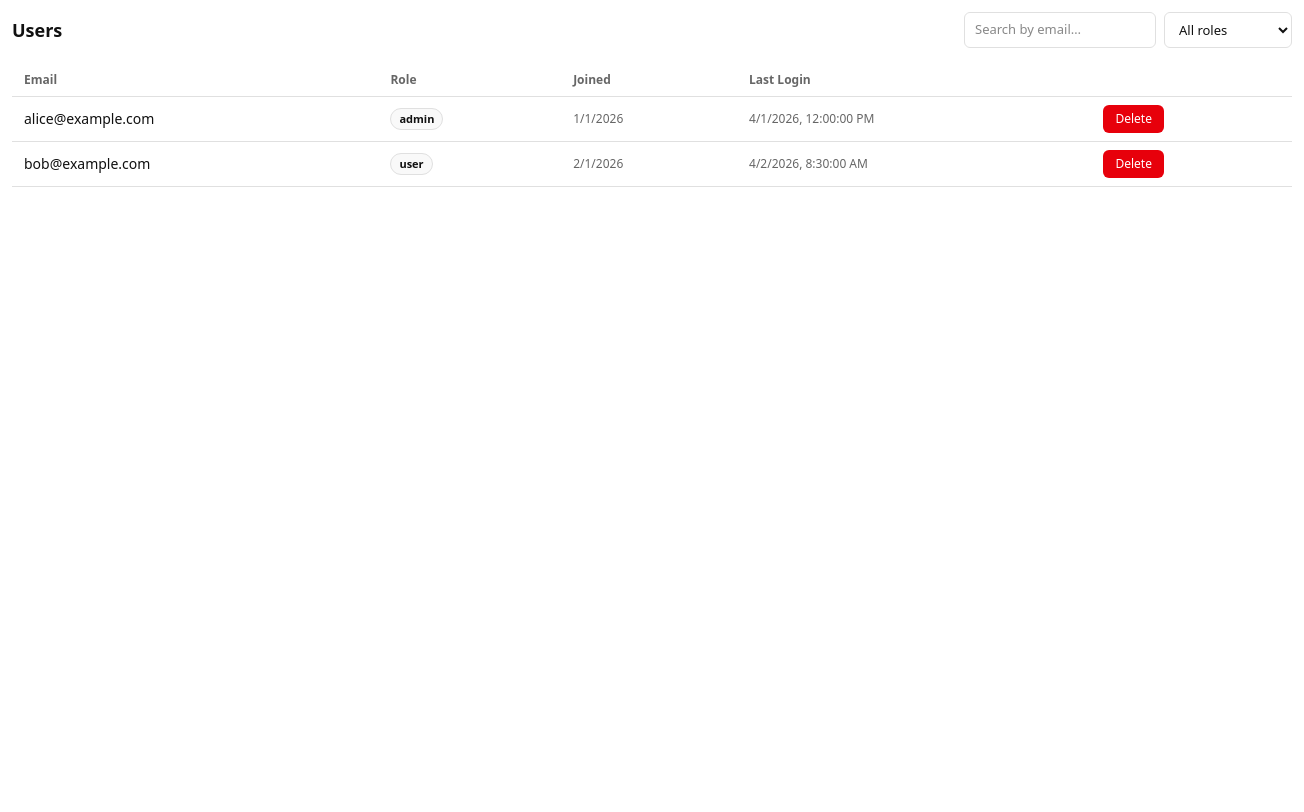
Scenario: UsersPanel › shows limits section when getUserLimits returns data
Click the text "alice@example.com": (89,118) [12,96,378,142]
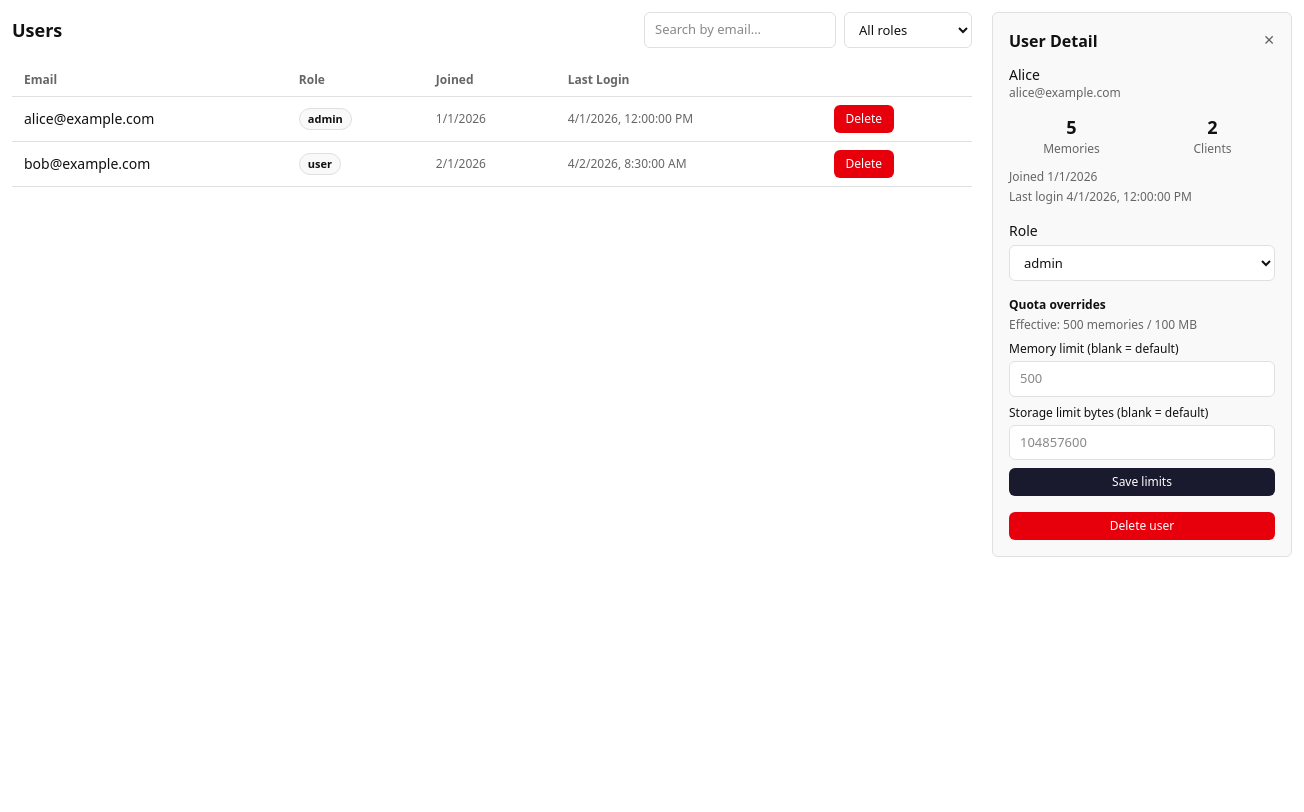
Expected: the element with test id "limits-section" is shown, [1009,297,1275,496]
Expected: the text "Quota overrides" is shown, [1009,296,1106,313]
Expected: the number field with test id "memory-limit-input" is shown, [1009,361,1275,396]
